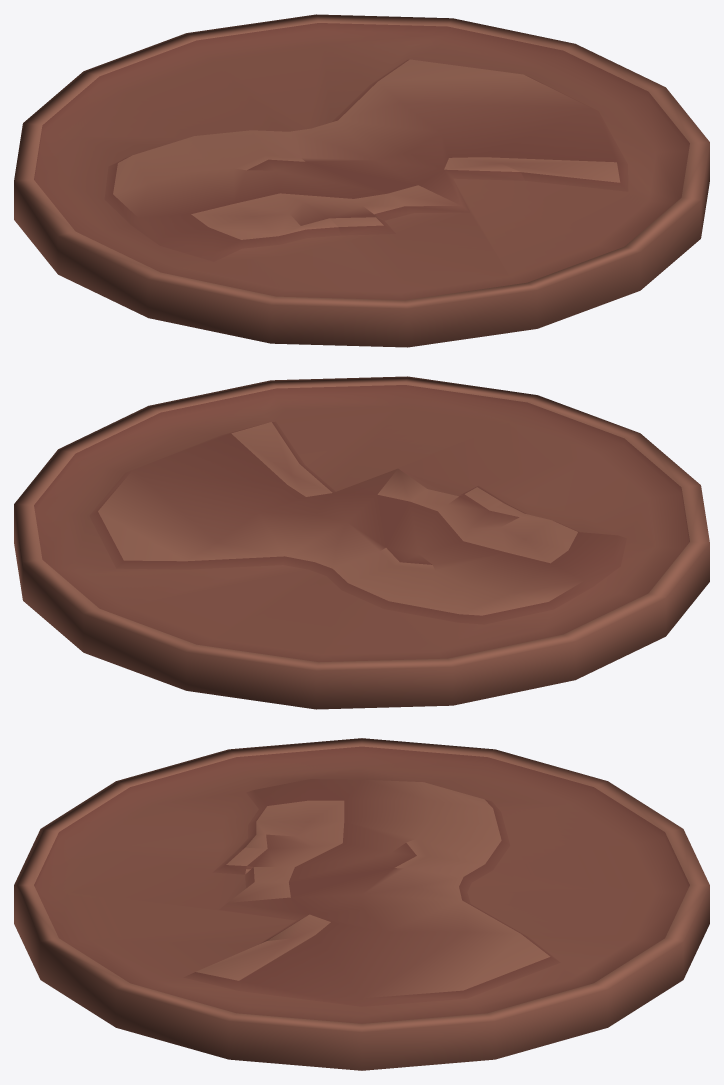
3 views of the same model, one above another, from view 1: azimuth 30°, elevation 25°; view 2: azimuth 150°, elevation 25°; view 3: azimuth 270°, elevation 25° (orthographic).
Visible parts, largest first — view 1: alt1.146; view 2: alt1.146; view 3: alt1.146.
Boxes of the visible parts, left/top/right/bottom form: alt1.146: left=14, top=14, right=709, bottom=347; alt1.146: left=14, top=376, right=709, bottom=709; alt1.146: left=14, top=738, right=709, bottom=1070.
Bounding box in the file's own units: 0.5 × 0.0306 × 0.5.
